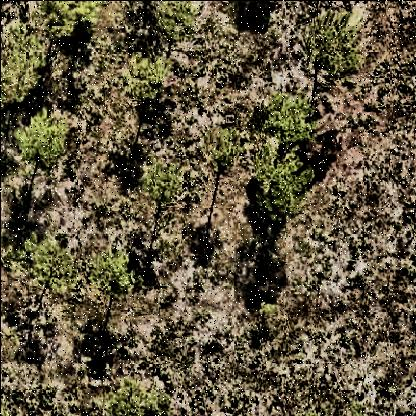tree-top: (290, 4, 372, 78), (243, 147, 321, 220), (251, 93, 322, 147), (13, 110, 74, 170), (25, 233, 82, 294), (81, 248, 145, 300), (1, 27, 46, 96), (122, 50, 174, 105), (101, 383, 180, 416), (196, 125, 247, 175), (37, 1, 99, 41), (152, 3, 206, 41), (138, 163, 186, 205)
